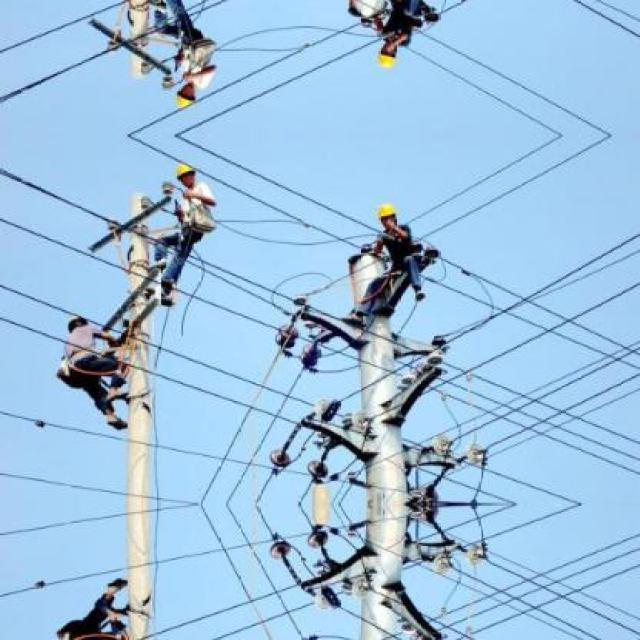helmet: (376, 39, 399, 72), (376, 199, 399, 231), (172, 156, 194, 188), (172, 83, 194, 114)
